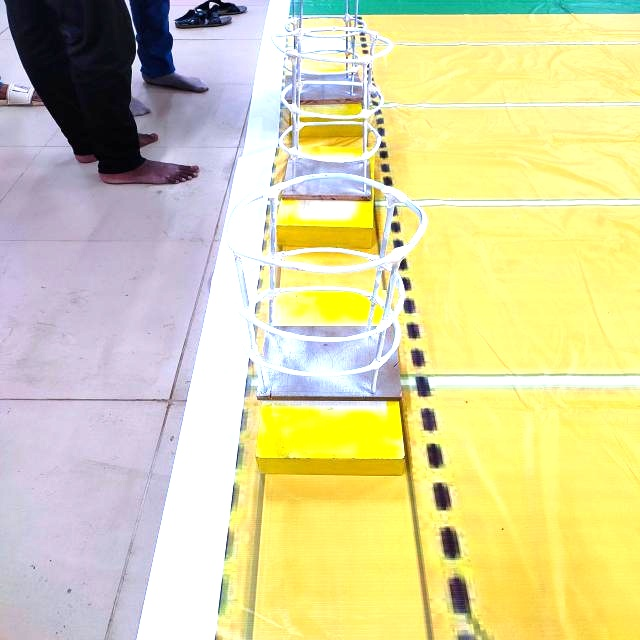silo: (203, 176, 440, 416), (266, 19, 395, 209)
